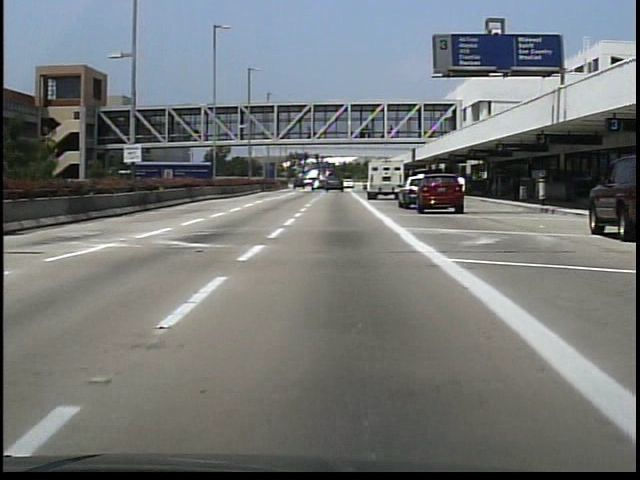person: (454, 174, 472, 212)
